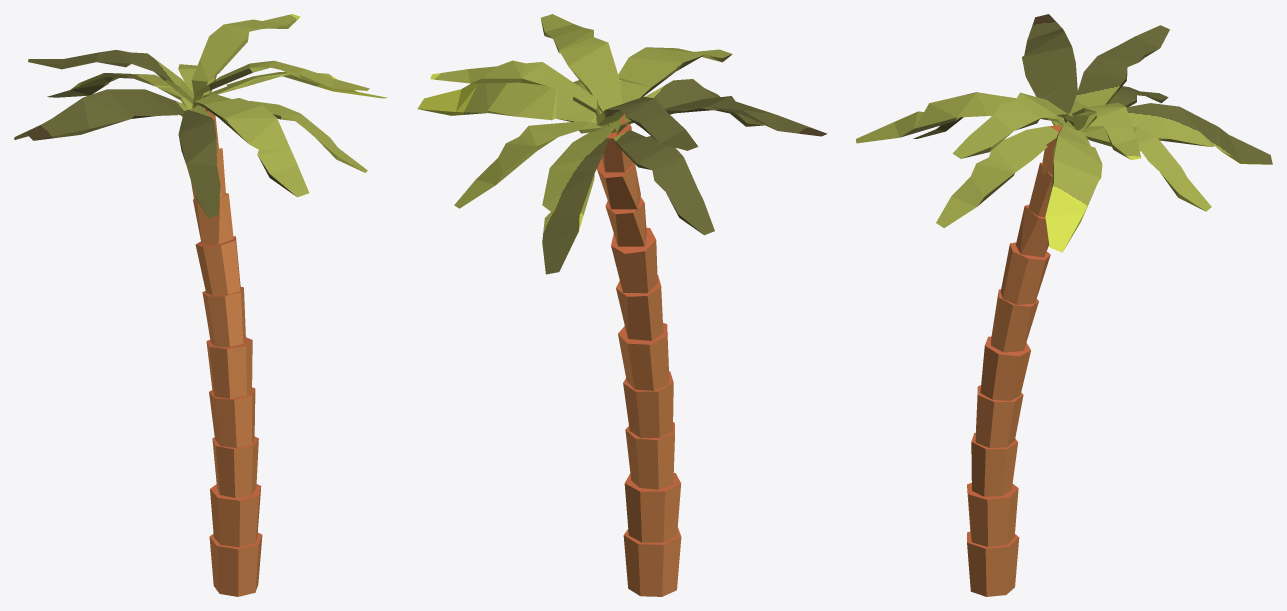
File: Palm Tree 1 Low.fbx
The picture shows the model from 3 angles, left to right: view 1: azimuth 30°, elevation 25°; view 2: azimuth 150°, elevation 25°; view 3: azimuth 270°, elevation 25°; orthographic projection. The views are drawn at different scales.
Parts seen in each view (by area): view 1: Tree-1; view 2: Tree-1; view 3: Tree-1.
Part boxes in pixels (bbox=[...]): Tree-1: bbox=[14, 14, 387, 596]; Tree-1: bbox=[417, 14, 827, 596]; Tree-1: bbox=[856, 14, 1272, 596].
Size of the model in its own units: 338 by 446 by 332.
